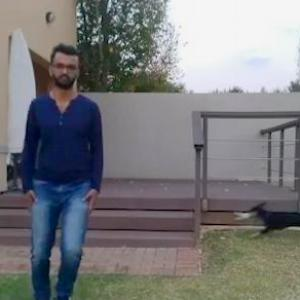follow: (18, 34, 118, 299)
